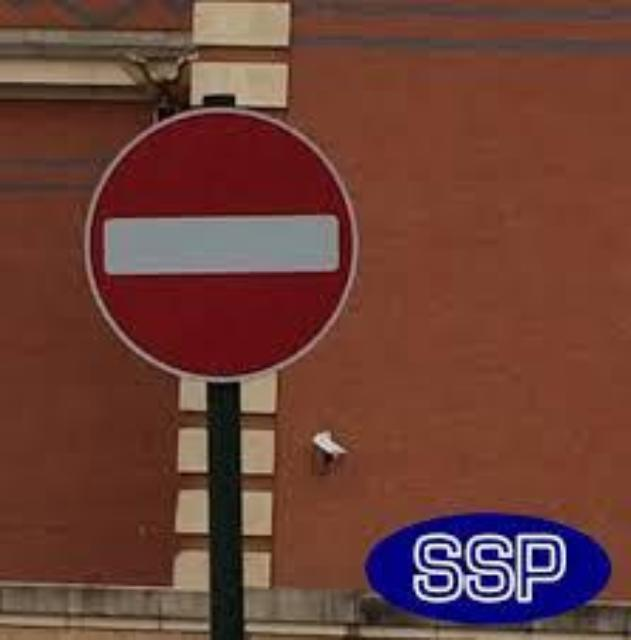B2: (76, 99, 362, 385)
